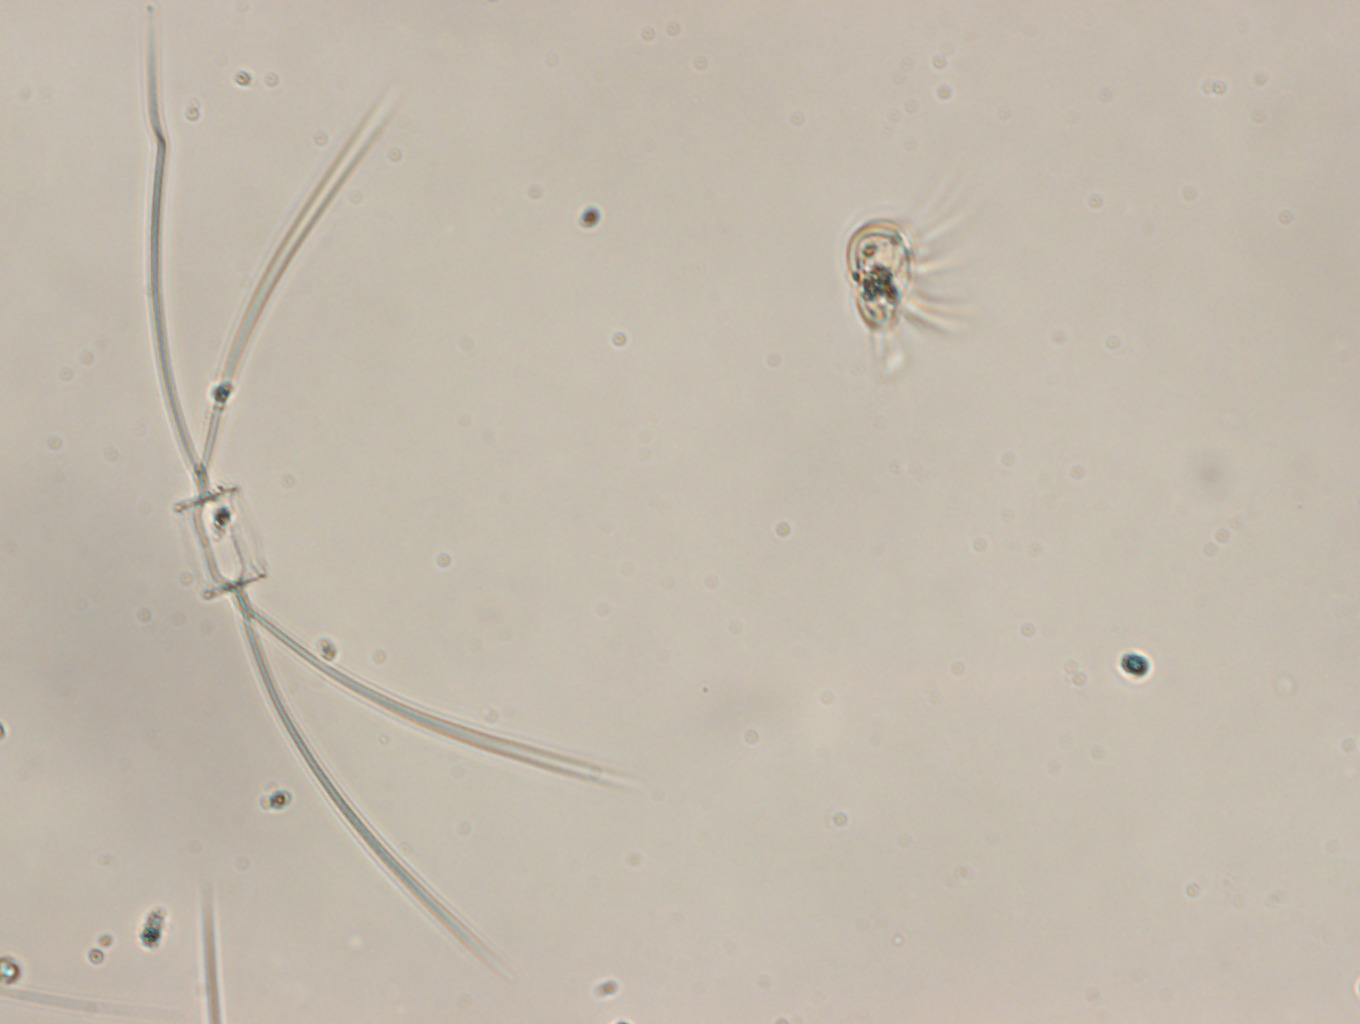chaetoceros: (146, 1, 630, 967)
